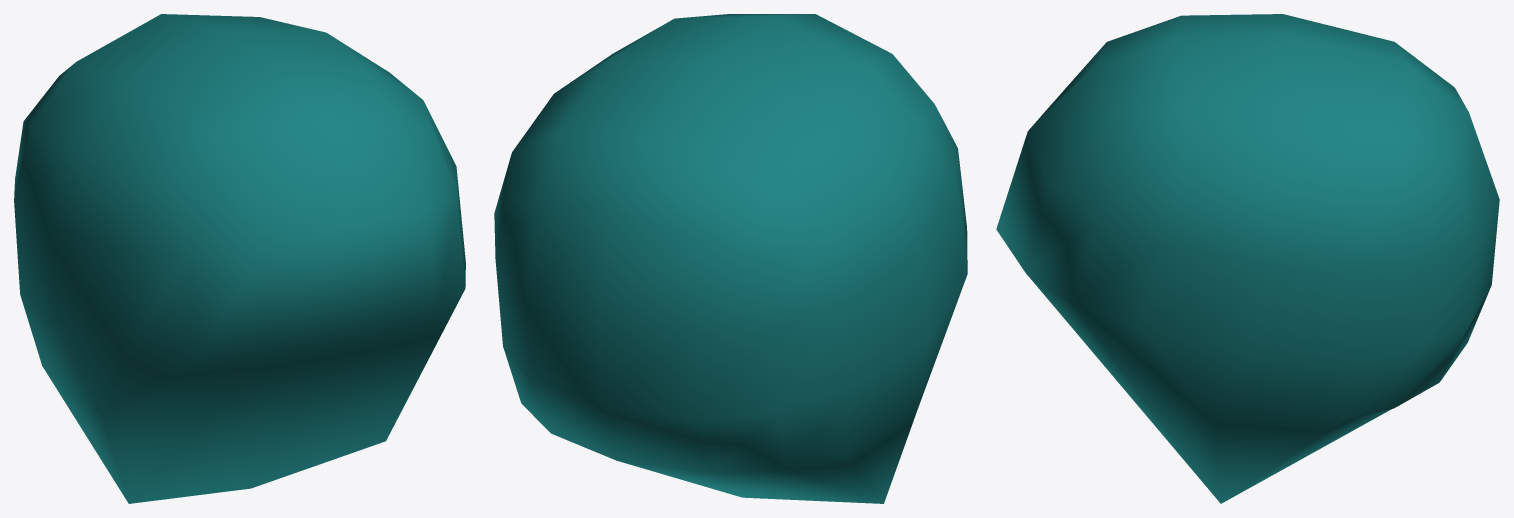
File: skate_helmet_collider.fbx
The picture shows the model from 3 angles, left to right: view 1: azimuth 30°, elevation 25°; view 2: azimuth 150°, elevation 25°; view 3: azimuth 270°, elevation 25°; orthographic projection. The views are drawn at different scales.
Parts seen in each view (by area): view 1: skate_helmet_collider; view 2: skate_helmet_collider; view 3: skate_helmet_collider.
Part boxes in pixels (x1,y1,x2,y2): skate_helmet_collider: [14, 14, 465, 503]; skate_helmet_collider: [494, 14, 967, 503]; skate_helmet_collider: [996, 14, 1499, 503].
Bounding box in the file's own units: 26.53 × 29.96 × 32.01.
